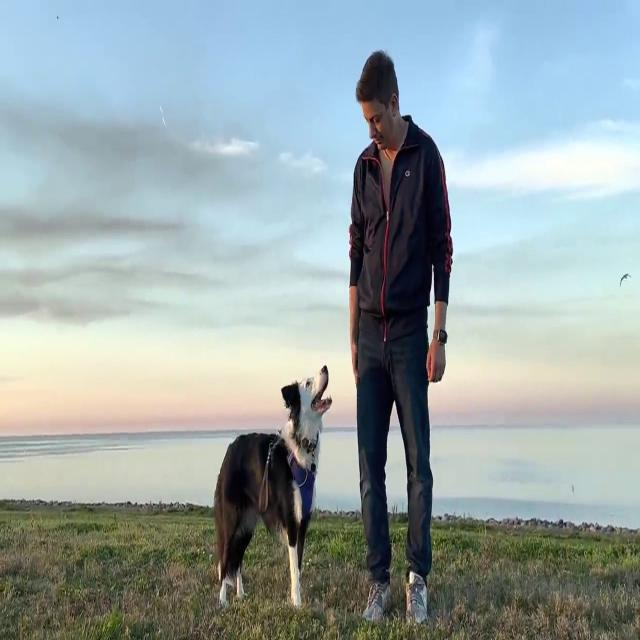Unleashed_Dog: (212, 340, 418, 607)
